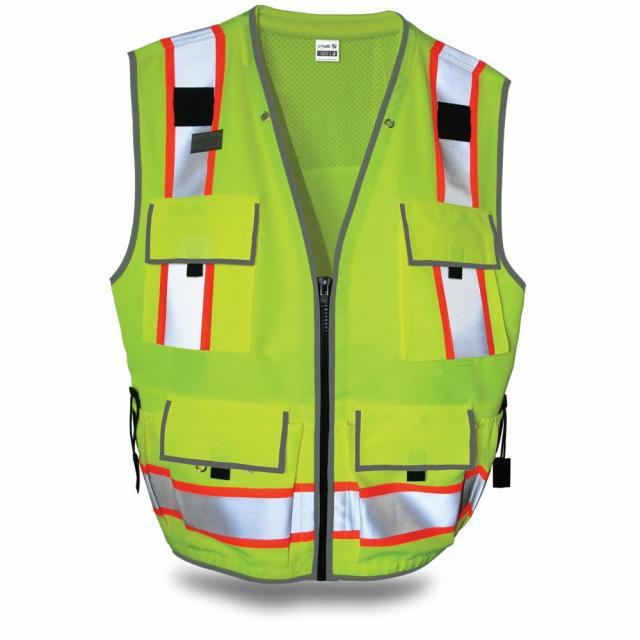reflective_jacket: (70, 10, 549, 613)
